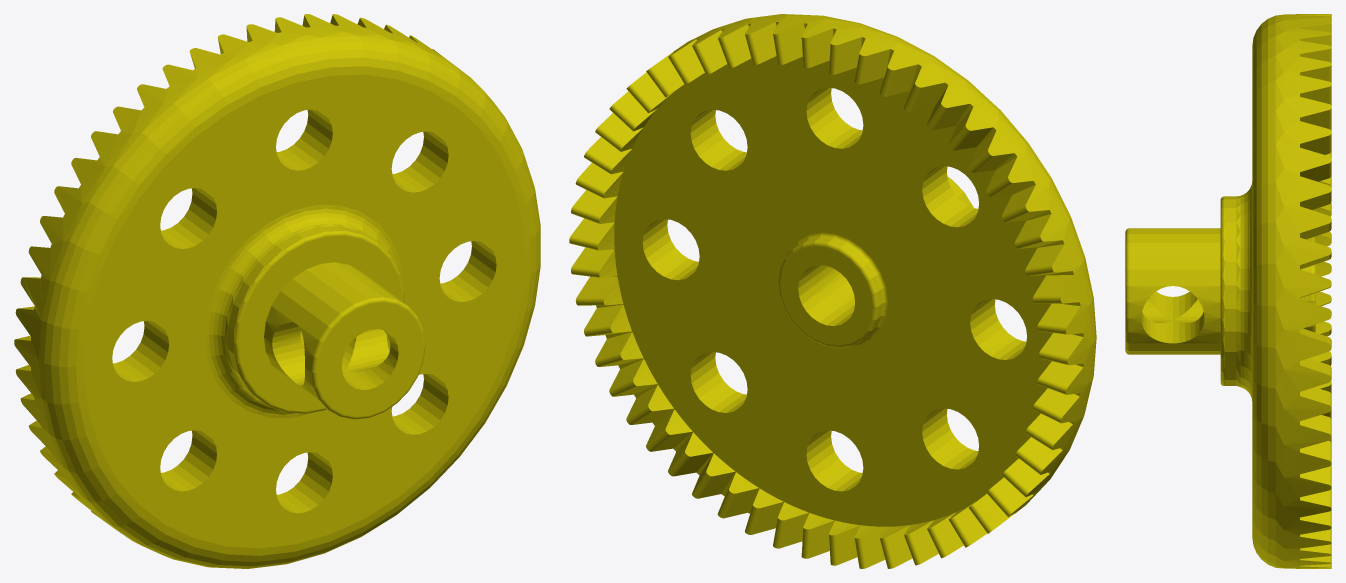
Rendered from test07_user123.glb.
3 renders of one model, left to right at view 1: azimuth 30°, elevation 25°; view 2: azimuth 150°, elevation 25°; view 3: azimuth 270°, elevation 25°, orthographic. The views are drawn at different scales.
Parts seen in each view (by area): view 1: BanhRangConDet; view 2: BanhRangConDet; view 3: BanhRangConDet.
Part boxes in pixels (bbox=[...]): BanhRangConDet: bbox=[14, 14, 540, 568]; BanhRangConDet: bbox=[569, 14, 1096, 568]; BanhRangConDet: bbox=[1125, 14, 1331, 568].
Bounding box in the file's own units: 1.12 × 1.12 × 0.417.
